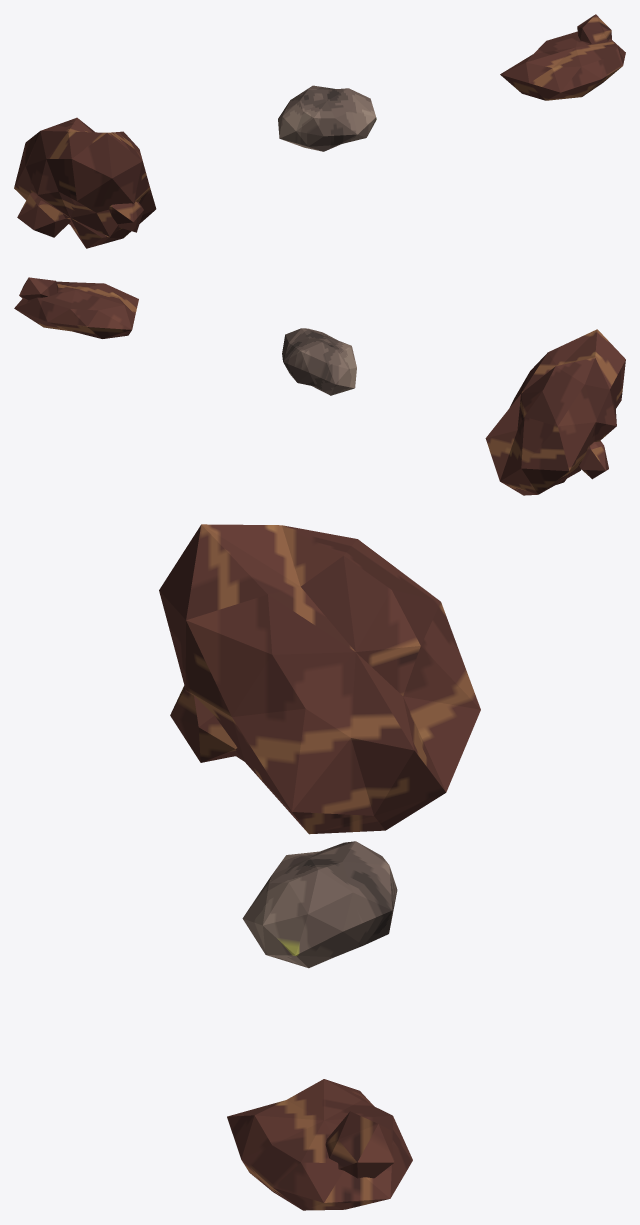
The model's file is SM_AN43_Debris.fbx.
The picture shows the model from 3 angles, top to bottom: view 1: azimuth 30°, elevation 25°; view 2: azimuth 150°, elevation 25°; view 3: azimuth 270°, elevation 25°; orthographic projection. The views are drawn at different scales.
Parts seen in each view (by area): view 1: AN43a_Earth, AN43c_Earth, AN43b_Props; view 2: AN43a_Earth, AN43c_Earth, AN43b_Props; view 3: AN43a_Earth, AN43c_Earth, AN43b_Props.
Part boxes in pixels (left/top/right/bottom): AN43a_Earth: left=14, top=117, right=156, bottom=248; AN43c_Earth: left=500, top=14, right=625, bottom=100; AN43b_Props: left=278, top=85, right=376, bottom=151; AN43a_Earth: left=485, top=329, right=625, bottom=495; AN43c_Earth: left=14, top=277, right=138, bottom=338; AN43b_Props: left=282, top=328, right=356, bottom=395; AN43a_Earth: left=159, top=524, right=480, bottom=834; AN43c_Earth: left=227, top=1079, right=412, bottom=1210; AN43b_Props: left=242, top=841, right=397, bottom=968.
Bounding box in the file's own units: 2.25 × 0.5087 × 0.5321.
